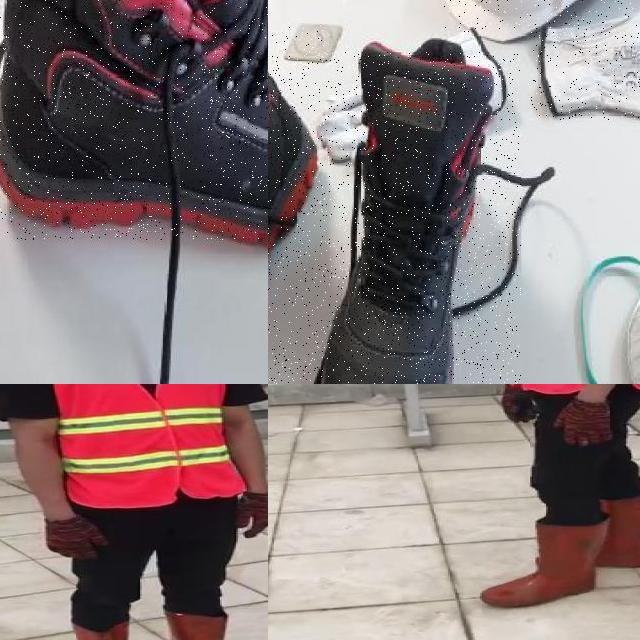BOOTS: (319, 52, 521, 384), (0, 0, 268, 240), (268, 24, 325, 384), (479, 521, 598, 608), (594, 496, 640, 569), (163, 609, 268, 640)
GLOVE: (551, 396, 615, 447), (43, 513, 109, 562), (239, 490, 268, 539), (504, 384, 538, 425)
HELMET: (443, 0, 640, 32)
VEST: (53, 384, 241, 506)
